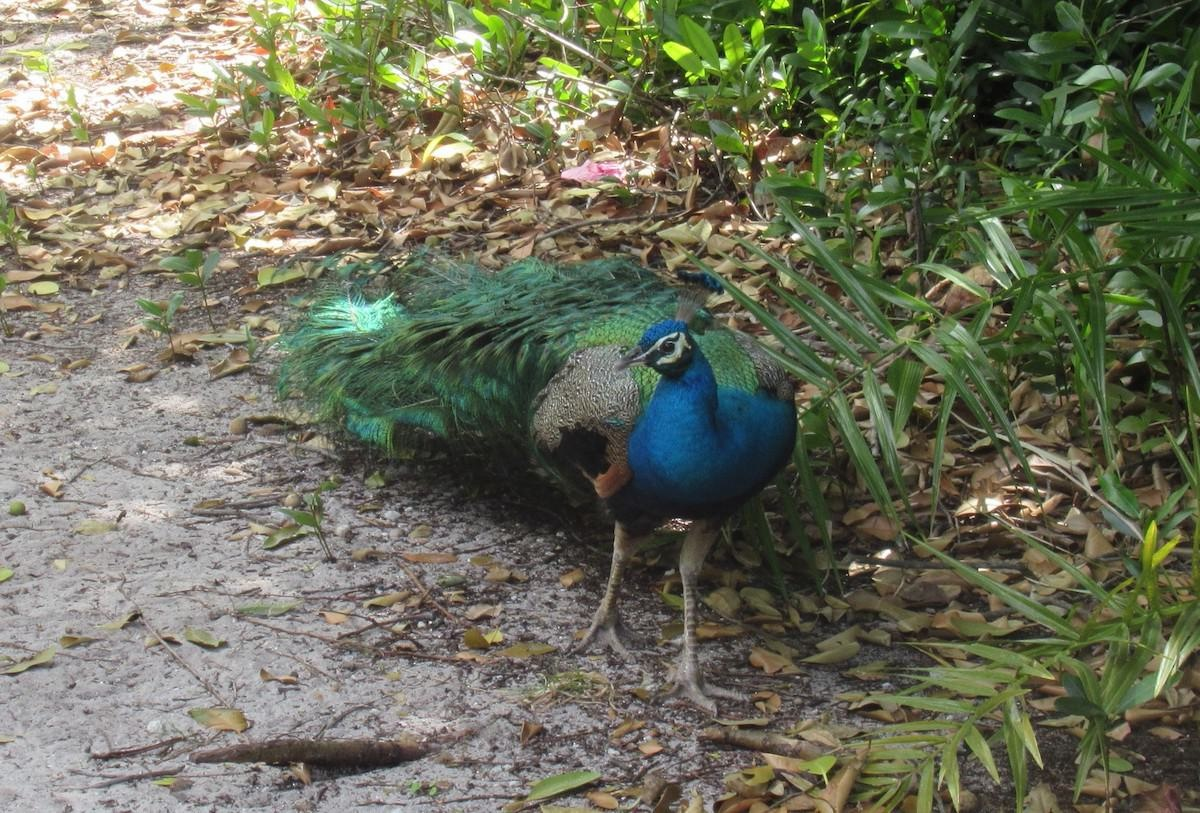peacock: (273, 228, 851, 690)
